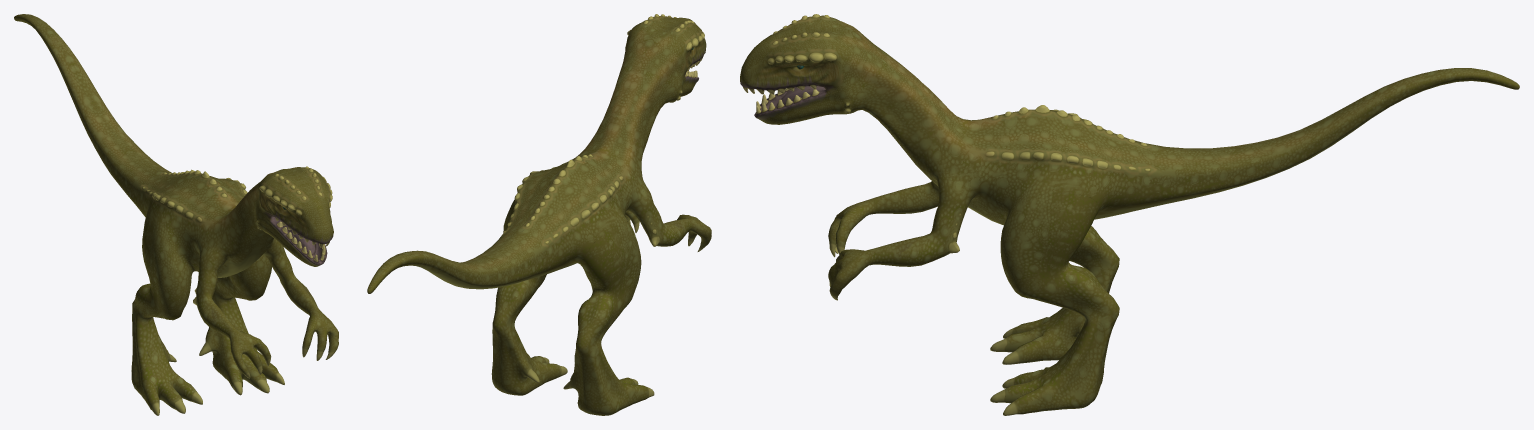
The model's file is dinosaur.dae.
3 renders of one model, left to right at view 1: azimuth 30°, elevation 25°; view 2: azimuth 150°, elevation 25°; view 3: azimuth 270°, elevation 25°, orthographic. The views are drawn at different scales.
Visible parts, largest first — view 1: creature_mesh_multires; view 2: creature_mesh_multires; view 3: creature_mesh_multires.
Boxes of the visible parts, left/top/right/bottom form: creature_mesh_multires: left=14, top=14, right=338, bottom=415; creature_mesh_multires: left=367, top=14, right=711, bottom=415; creature_mesh_multires: left=740, top=14, right=1519, bottom=415.
Bounding box in the file's own units: 2.35 × 9.83 × 4.92.
